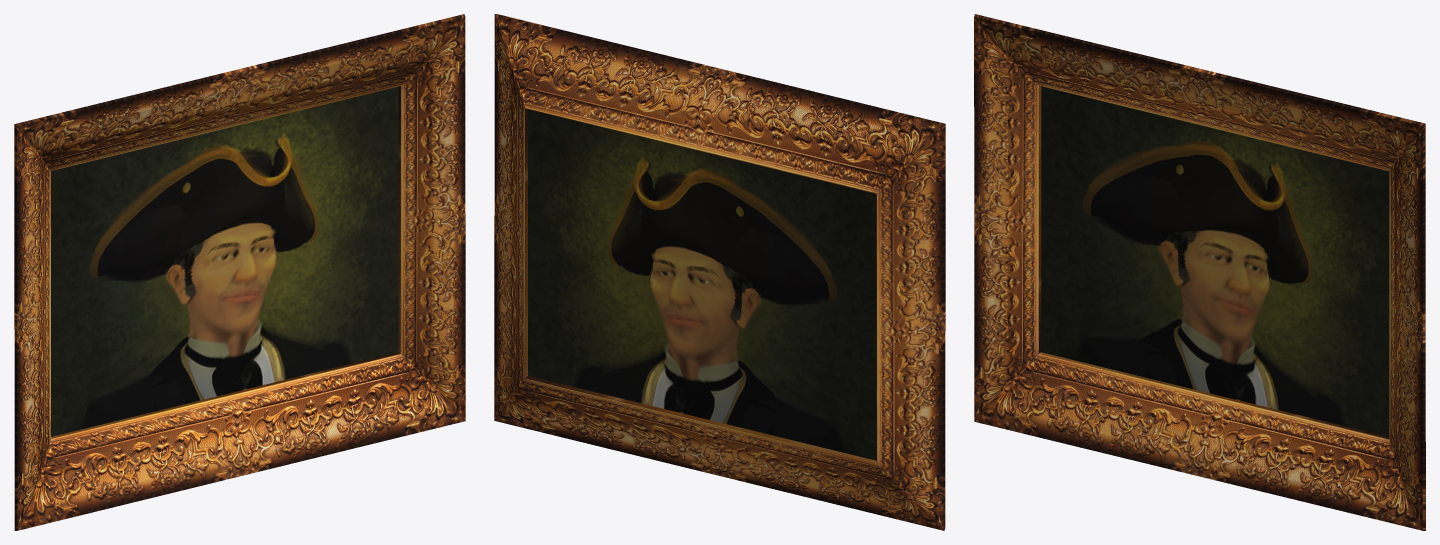
Rendered from Painting_Patriot.fbx.
The picture shows the model from 3 angles, left to right: view 1: azimuth 30°, elevation 25°; view 2: azimuth 150°, elevation 25°; view 3: azimuth 330°, elevation 25°; orthographic projection.
Parts seen in each view (by area): view 1: Painting_Patriot; view 2: Painting_Patriot; view 3: Painting_Patriot.
Part boxes in pixels (left/top/right/bottom): Painting_Patriot: left=14, top=14, right=465, bottom=530; Painting_Patriot: left=494, top=14, right=945, bottom=530; Painting_Patriot: left=974, top=14, right=1425, bottom=530.
Bounding box in the file's own units: 111 × 96.19 × 8.74.
